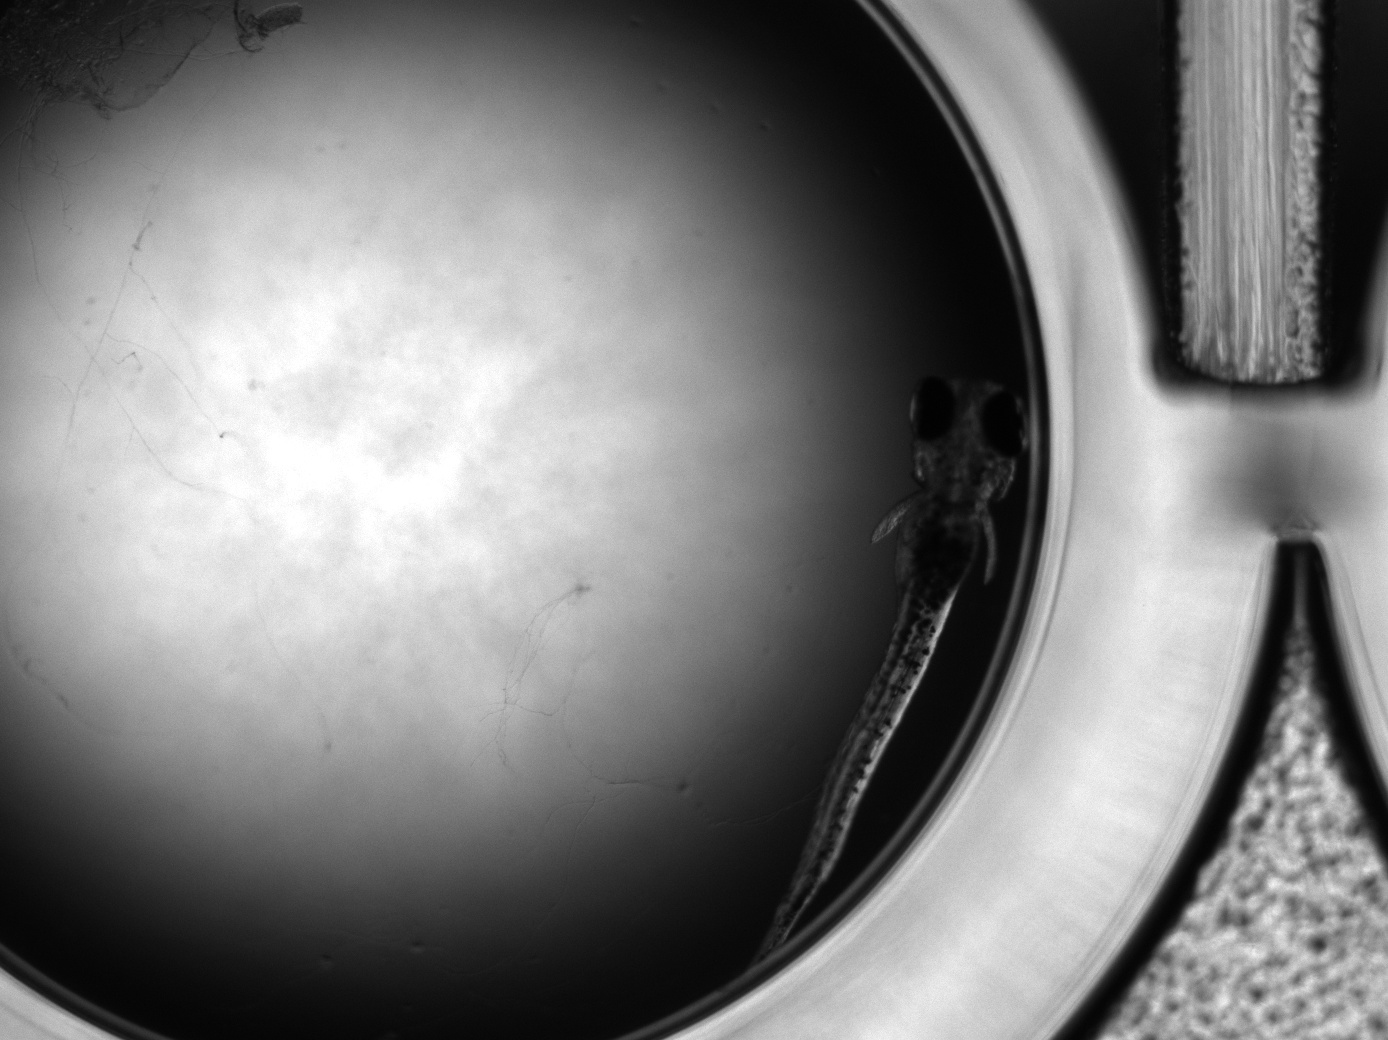embryo: (754, 374, 1027, 967)
eye: (978, 389, 1028, 459), (909, 375, 956, 441)
yolksac: (892, 495, 983, 606)
